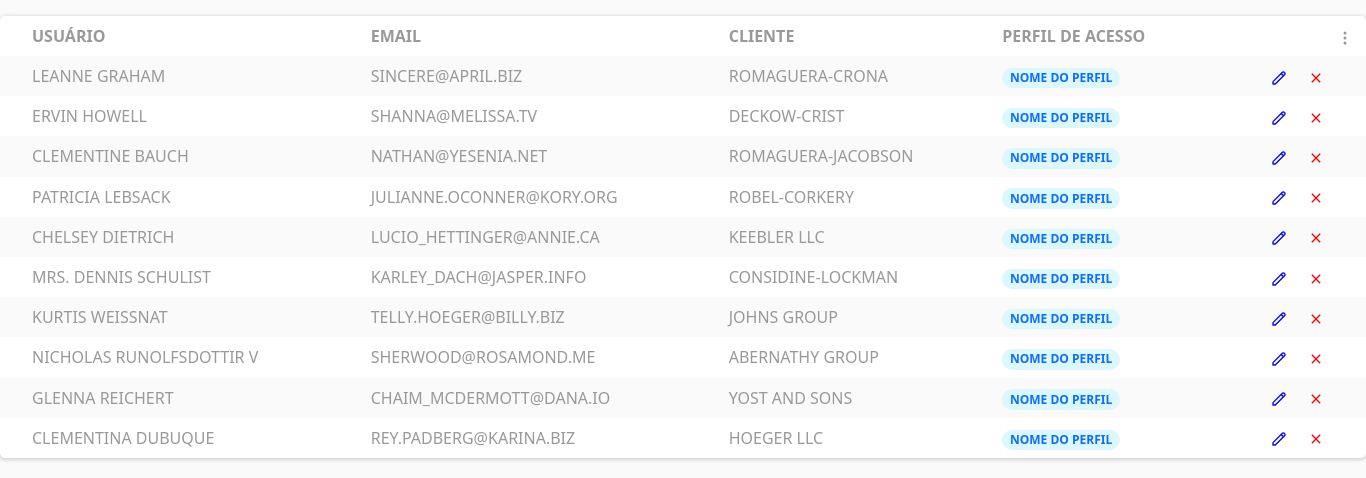
Test case: hides/show "Email" column
Click the icon with test id "Dropdown.Toggle" at [1345, 38], box [1337,30,1353,46]
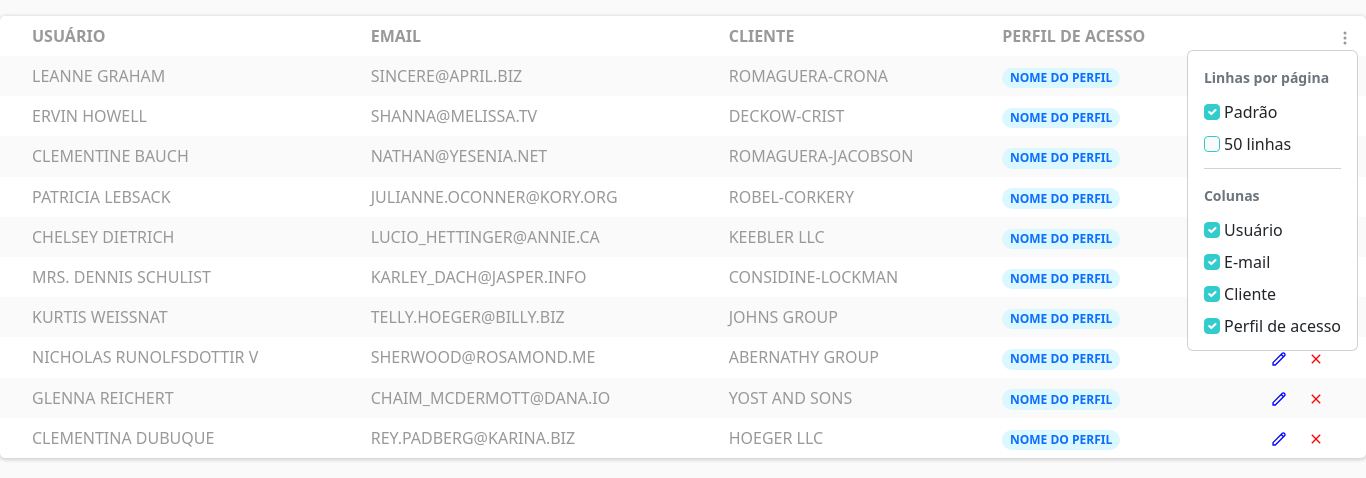
Expected: the column heading with test id "EmailCol" is shown, [363,16,721,56]
Click the button with test id "Dropdown.Item.EmailCol" at [1237, 262], box [1204,251,1270,273]
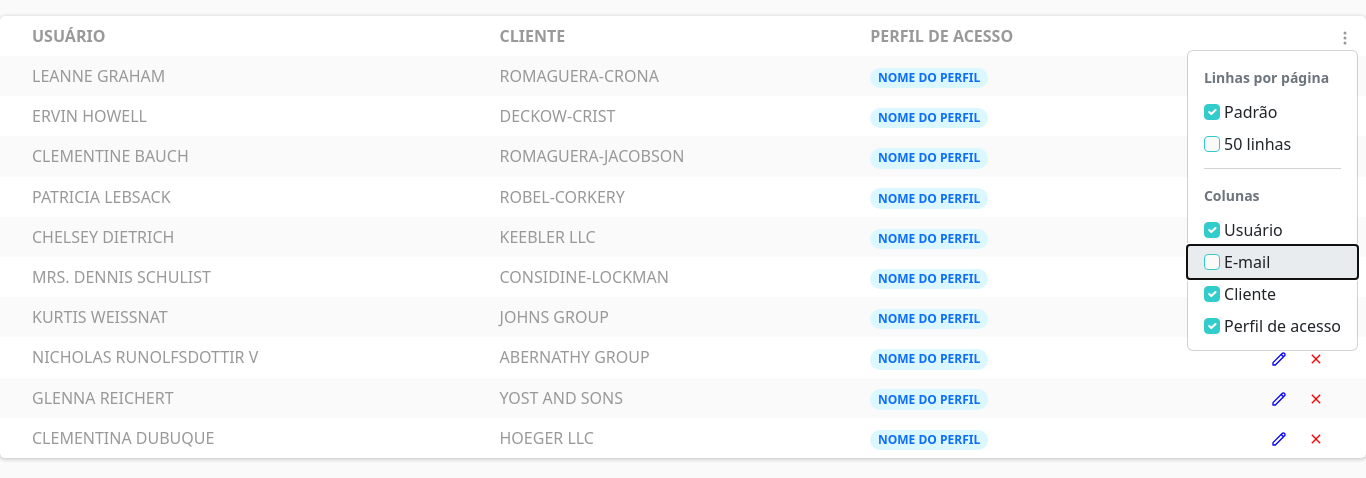
Result: the column heading with test id "EmailCol" is gone
Click the button with test id "Dropdown.Item.EmailCol" at [1272, 262], box [1188,246,1357,278]
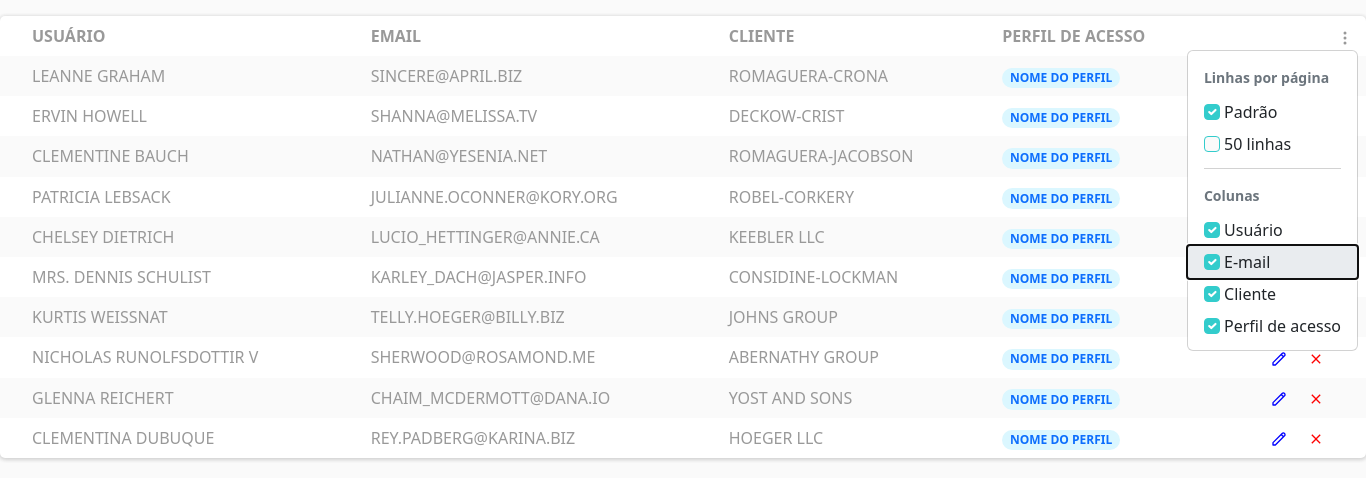
Result: the column heading with test id "EmailCol" is shown at [363,16,721,56]
